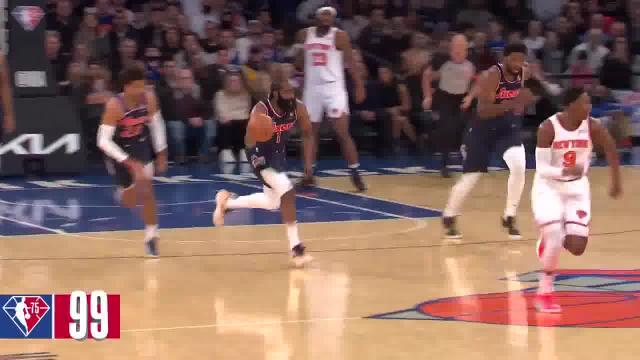ball-handler: (209, 61, 324, 275)
player: (515, 86, 624, 324), (429, 41, 536, 248), (95, 61, 178, 260), (289, 4, 370, 204)
